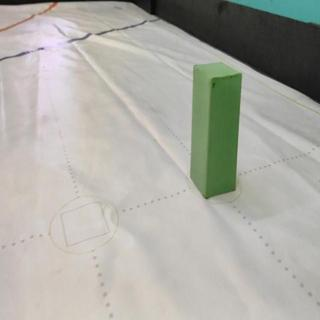greenbox: (191, 61, 244, 200)
